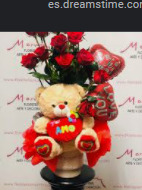RedRose: (48, 35, 70, 53), (17, 53, 36, 71), (90, 68, 109, 85), (75, 47, 91, 66), (33, 44, 48, 61), (59, 54, 74, 68), (71, 32, 85, 44)
